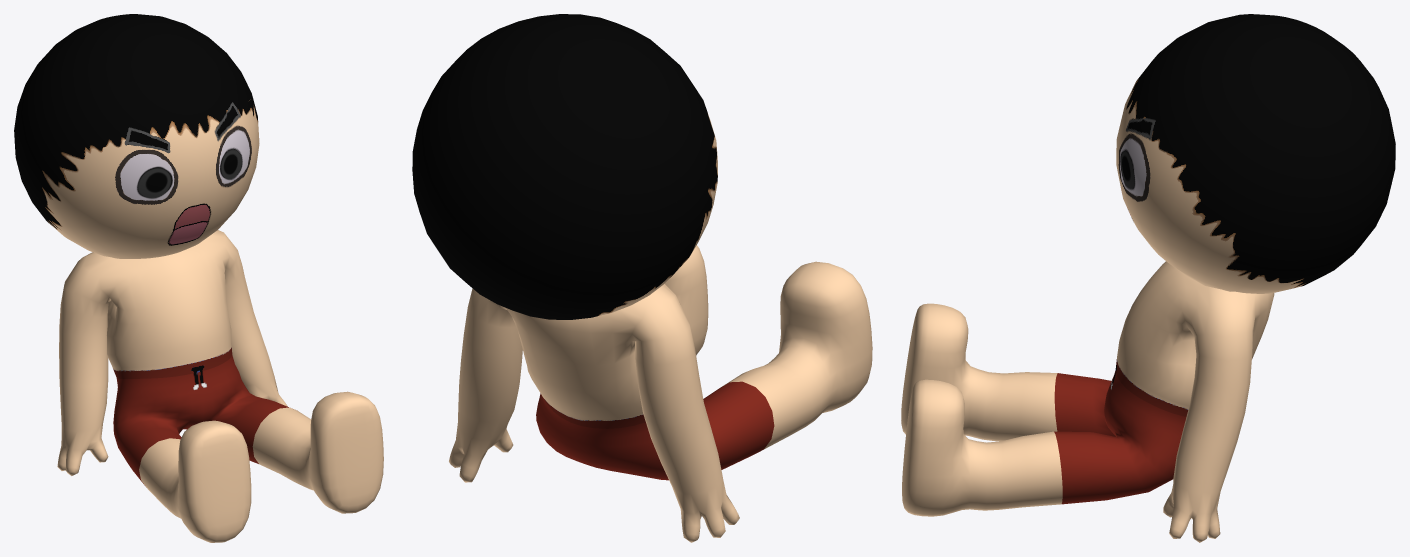
File: SentadoBanca.fbx
The picture shows the model from 3 angles, left to right: view 1: azimuth 30°, elevation 25°; view 2: azimuth 150°, elevation 25°; view 3: azimuth 270°, elevation 25°; orthographic projection. The views are drawn at different scales.
Visible parts, largest first — view 1: Cube.002; view 2: Cube.002; view 3: Cube.002.
Boxes of the visible parts, left/top/right/bottom form: Cube.002: left=14, top=14, right=383, bottom=542; Cube.002: left=412, top=14, right=872, bottom=542; Cube.002: left=901, top=14, right=1395, bottom=542.
Bounding box in the file's own units: 1507 × 2596 × 2520.
2 materials, 2 textured.
